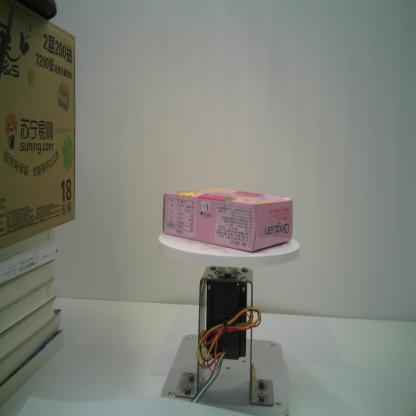Dessert: (156, 185, 294, 254)
